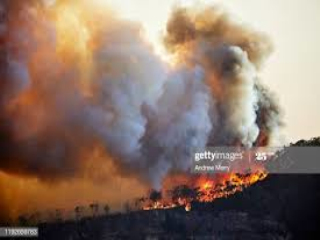fire: (162, 170, 264, 207)
smoke: (101, 15, 296, 169)
